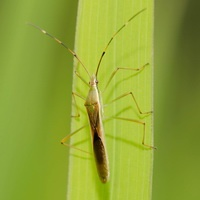insect: (32, 0, 154, 184)
